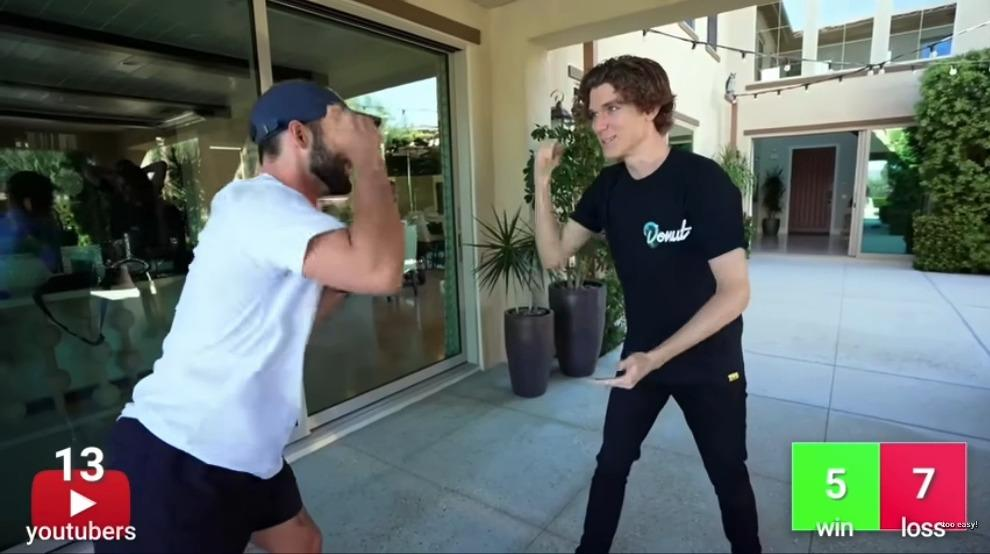Rock: (331, 107, 385, 163), (533, 138, 561, 175)
